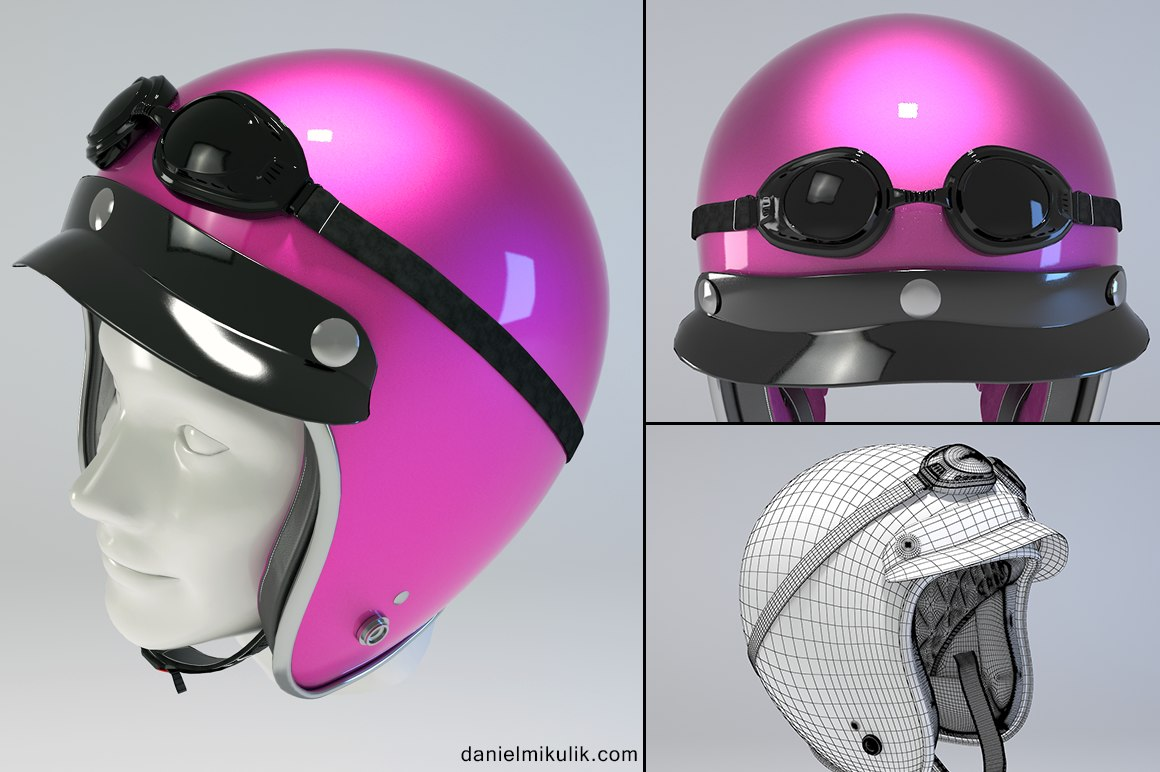with_helmet: (50, 38, 609, 706), (694, 11, 1129, 418), (749, 434, 1059, 772)
